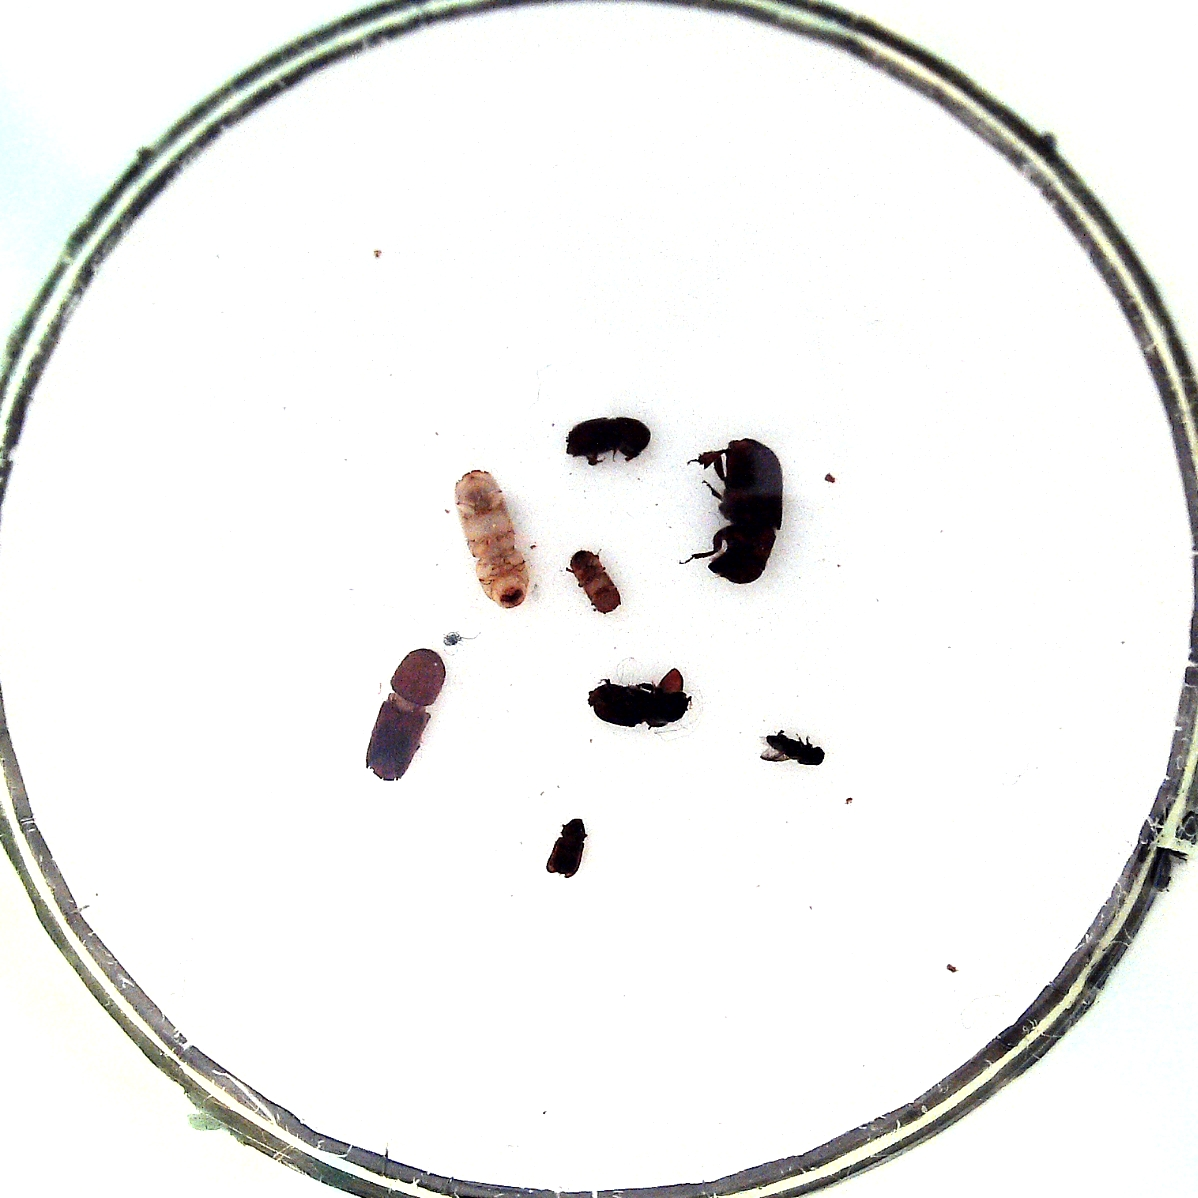Boerner: (365, 648, 447, 783)
Leconte: (708, 437, 783, 584)
acuminatus: (766, 733, 823, 766)
armandi: (589, 683, 687, 727)
coleoptera: (455, 470, 530, 609), (570, 549, 621, 613), (545, 818, 586, 878)
linnaeus: (566, 418, 651, 463)
